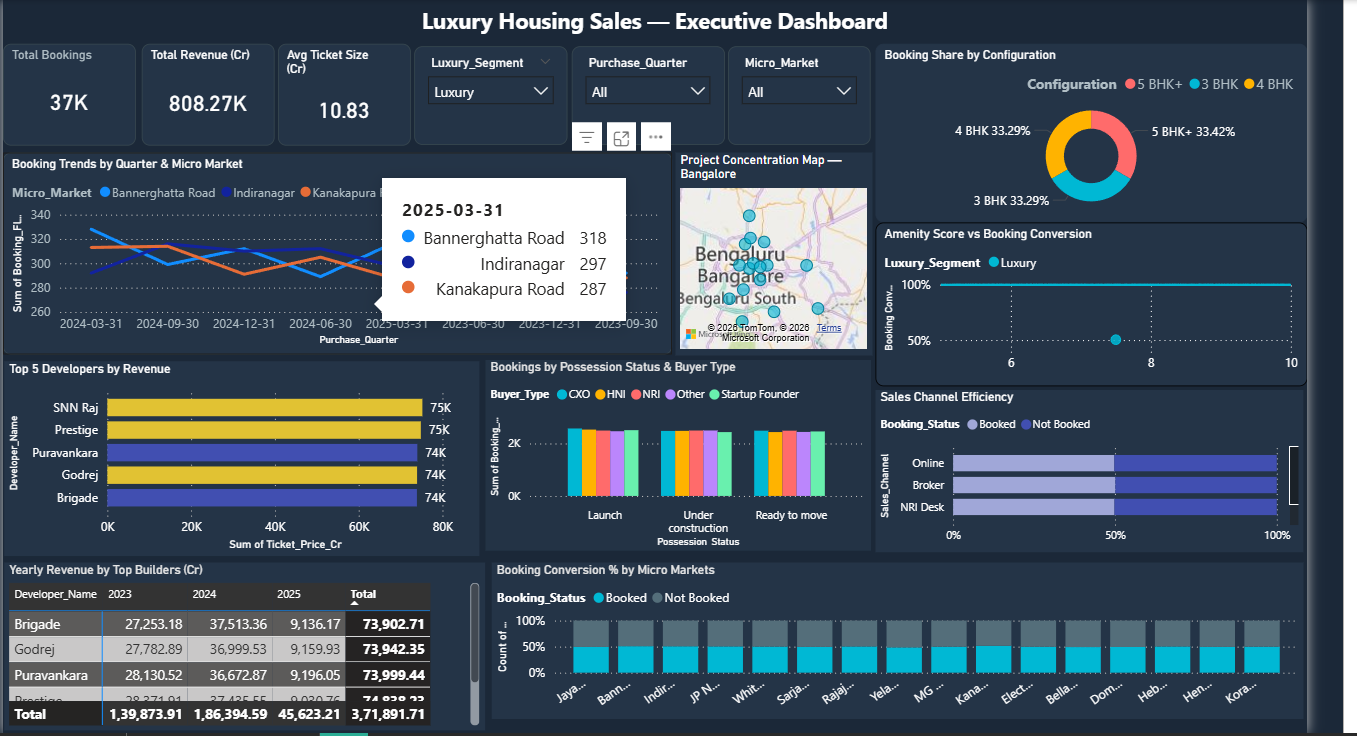

What the dashboard file says about the page in this screenshot:
{"tool":"powerbi","page":{"name":"Executive Dashboard","canvas":[1280,720],"ordinal":0},"visuals":[{"type":"textbox","box":[0,0,1280,42.2],"z":0},{"type":"card","title":"Total Bookings","fields":{"Values":["Sum(public fact_sales.Booking_Flag)"]},"box":[0,42.6,130,100],"z":1000},{"type":"card","title":"Total Revenue (Cr)","fields":{"Values":["Sum(public fact_sales.Ticket_Price_Cr)"]},"box":[136,42.6,130.4,100.3],"z":2000},{"type":"card","title":"Avg Ticket Size (Cr)","fields":{"Values":["Avg(public fact_sales.Ticket_Price_Cr)"]},"box":[270,42.6,130,100.3],"z":3000},{"type":"slicer","title":"Luxury Segment","fields":{"Values":["public fact_sales.Luxury_Segment"]},"box":[404,45.1,150.5,97],"z":4000},{"type":"slicer","title":"Luxury Segment","fields":{"Values":["public fact_sales.Purchase_Quarter"]},"box":[558,45.1,150,97],"z":5000},{"type":"slicer","title":"Luxury Segment","fields":{"Values":["public dim_location.Micro_Market"]},"box":[712,45.1,140,97],"z":6000},{"type":"lineChart","title":"Booking Trends by Quarter & Micro Market","fields":{"Category":["public fact_sales.Purchase_Quarter"],"Y":["Sum(public fact_sales.Booking_Flag)"],"Series":["public dim_location.Micro_Market"]},"box":[0,150,657.1,198.1],"z":7000},{"type":"donutChart","title":"Booking Share by Configuration","fields":{"Category":["public dim_property.Configuration"],"Y":["Sum(public fact_sales.Booking_Flag)"]},"box":[856.4,42.6,423.8,175.5],"z":8000},{"type":"clusteredBarChart","title":"Top 5 Developers by Revenue","fields":{"Category":["public fact_sales.Developer_Name"],"Y":["Sum(public fact_sales.Ticket_Price_Cr)"]},"box":[1.3,354,466.5,191],"z":9000},{"type":"hundredPercentStackedBarChart","title":"Sales Channel Efficiency","fields":{"Category":["public dim_buyer.Sales_Channel"],"Y":["CountNonNull(public fact_sales.Property_ID)"],"Series":["public fact_sales.Booking_Status"]},"box":[856.4,383,420.1,159.2],"z":10000},{"type":"scatterChart","title":"Amenity Score vs Booking Conversion","fields":{"X":["public dim_property.Amenity_Score"],"Y":["public fact_sales.Booking Conversion Rate"],"Size":["CountNonNull(public fact_sales.Property_ID)"],"Series":["public fact_sales.Luxury_Segment"]},"box":[856.4,218.2,423.8,160.5],"z":11000},{"type":"clusteredColumnChart","title":"Bookings by Possession Status & Buyer Type","fields":{"Category":["public dim_property.Possession_Status"],"Y":["Sum(public fact_sales.Booking_Flag)"],"Series":["public dim_buyer.Buyer_Type"]},"box":[473.8,353.8,378.8,187.5],"z":12000},{"type":"map","title":"Project Concentration Map — Bangalore","fields":{"Size":["CountNonNull(public fact_sales.Property_ID)"],"Category":["public dim_location.Micro_Market_Bangalore"]},"box":[660,150,193.1,198.1],"z":13000},{"type":"pivotTable","title":"Yearly Revenue by Top Builders (Cr)","fields":{"Rows":["public fact_sales.Developer_Name"],"Columns":["public fact_sales.Year"],"Values":["Sum(public fact_sales.Ticket_Price_Cr)"]},"box":[1.7,551.7,471.7,165],"z":14000},{"type":"hundredPercentStackedColumnChart","title":"Booking Conversion % by Micro Markets","fields":{"Category":["public dim_location.Micro_Market"],"Y":["CountNonNull(public fact_sales.Property_ID)"],"Series":["public fact_sales.Booking_Status"]},"box":[480,551.7,796.7,153.3],"z":15000}]}

Visuals, with their boxes on the page's 1280x720 design canvas (x1, y1, x2, y2). These are canvas units, not pixel positions in the 1357x736 screenshot, which may show the page scaled, cropped or inside an application window:
textbox: [x1=0, y1=0, x2=1280, y2=42]
"Total Bookings" card: [x1=0, y1=43, x2=130, y2=143]
"Total Revenue (Cr)" card: [x1=136, y1=43, x2=266, y2=143]
"Avg Ticket Size (Cr)" card: [x1=270, y1=43, x2=400, y2=143]
"Luxury Segment" slicer: [x1=404, y1=45, x2=554, y2=142]
"Luxury Segment" slicer: [x1=558, y1=45, x2=708, y2=142]
"Luxury Segment" slicer: [x1=712, y1=45, x2=852, y2=142]
"Booking Trends by Quarter & Micro Market" lineChart: [x1=0, y1=150, x2=657, y2=348]
"Booking Share by Configuration" donutChart: [x1=856, y1=43, x2=1280, y2=218]
"Top 5 Developers by Revenue" clusteredBarChart: [x1=1, y1=354, x2=468, y2=545]
"Sales Channel Efficiency" hundredPercentStackedBarChart: [x1=856, y1=383, x2=1276, y2=542]
"Amenity Score vs Booking Conversion" scatterChart: [x1=856, y1=218, x2=1280, y2=379]
"Bookings by Possession Status & Buyer Type" clusteredColumnChart: [x1=474, y1=354, x2=853, y2=541]
"Project Concentration Map — Bangalore" map: [x1=660, y1=150, x2=853, y2=348]
"Yearly Revenue by Top Builders (Cr)" pivotTable: [x1=2, y1=552, x2=473, y2=717]
"Booking Conversion % by Micro Markets" hundredPercentStackedColumnChart: [x1=480, y1=552, x2=1277, y2=705]
